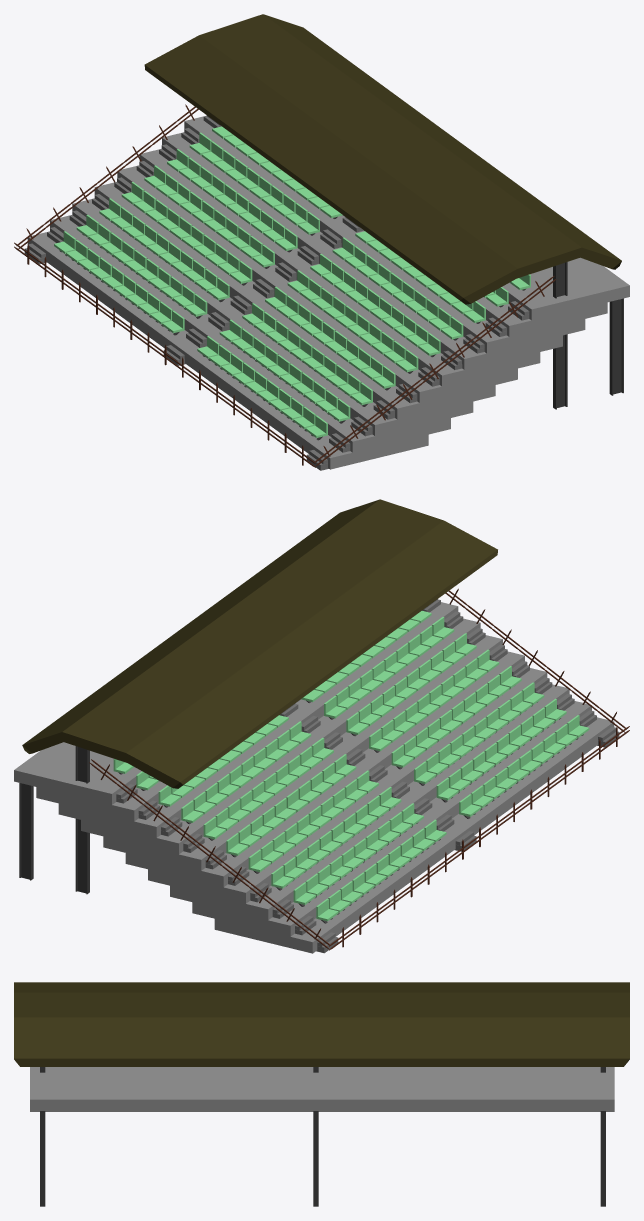
File: STADIUM.fbx
The picture shows the model from 3 angles, top to bottom: view 1: azimuth 30°, elevation 25°; view 2: azimuth 150°, elevation 25°; view 3: azimuth 270°, elevation 25°; orthographic projection. The views are drawn at different scales.
Parts seen in each view (by area): view 1: ROOF, platform_Base, Seats, Seats.001, spotPilller, stairs_Left, stairs_MId, lowerRailing, stairs_Right, lowerRailing.001, lowerRailing.002; view 2: ROOF, platform_Base, Seats.001, Seats, spotPilller, stairs_Right, lowerRailing, stairs_MId, stairs_Left, lowerRailing.002, lowerRailing.001; view 3: ROOF, platform_Base, spotPilller.
Part boxes in pixels (x1,y1,x2,y2): ROOF: [144, 14, 621, 304]; platform_Base: [27, 116, 629, 469]; Seats: [197, 231, 530, 440]; Seats.001: [54, 126, 342, 335]; spotPilller: [553, 262, 623, 409]; stairs_Left: [306, 301, 529, 470]; stairs_MId: [163, 217, 363, 365]; lowerRailing: [14, 242, 315, 467]; stairs_Right: [24, 115, 221, 264]; lowerRailing.001: [313, 276, 556, 466]; lowerRailing.002: [18, 104, 198, 248]; ROOF: [22, 499, 497, 788]; platform_Base: [14, 602, 614, 953]; Seats.001: [113, 715, 446, 923]; Seats: [301, 611, 589, 818]; spotPilller: [19, 746, 89, 894]; stairs_Right: [116, 784, 338, 953]; lowerRailing: [329, 726, 629, 950]; stairs_MId: [279, 703, 476, 851]; stairs_Left: [422, 599, 619, 747]; lowerRailing.002: [89, 759, 329, 948]; lowerRailing.001: [445, 588, 625, 732]; ROOF: [14, 982, 629, 1066]; platform_Base: [30, 1067, 614, 1111]; spotPilller: [40, 1067, 605, 1206].
Size of the model in its own units: 3310 by 1706 by 5800.
